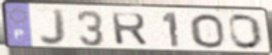1: (161, 11, 182, 50)
3: (76, 8, 105, 48)
J: (38, 7, 68, 48)
O: (227, 13, 266, 51), (188, 13, 227, 50)
R: (109, 12, 150, 47)
